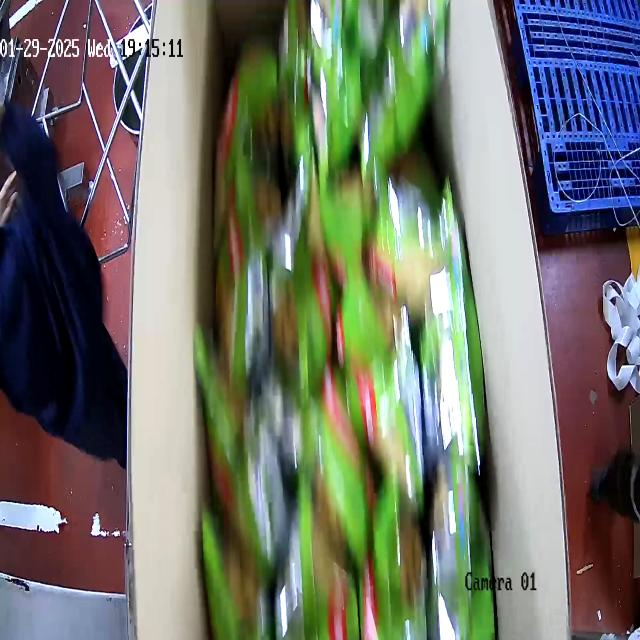YOGURT_HERB: (203, 1, 500, 638)
